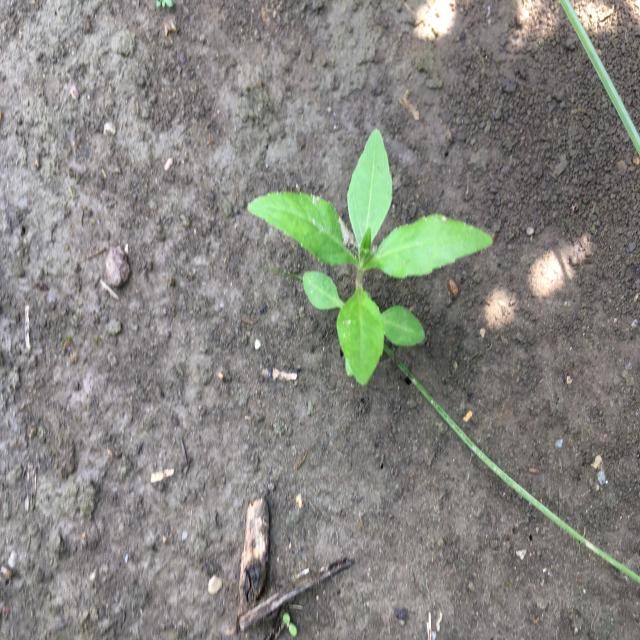Eclipta: (245, 125, 494, 389)
